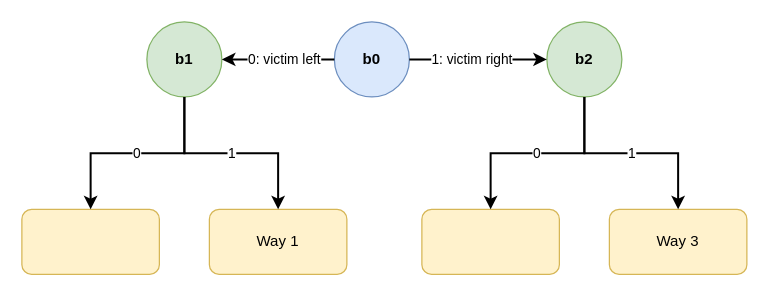
This 769x296 diagram has some shape labels left out. Each missing label, with the box of its shape:
Way 0: (21, 208, 159, 274)
Way 2: (421, 208, 559, 274)
